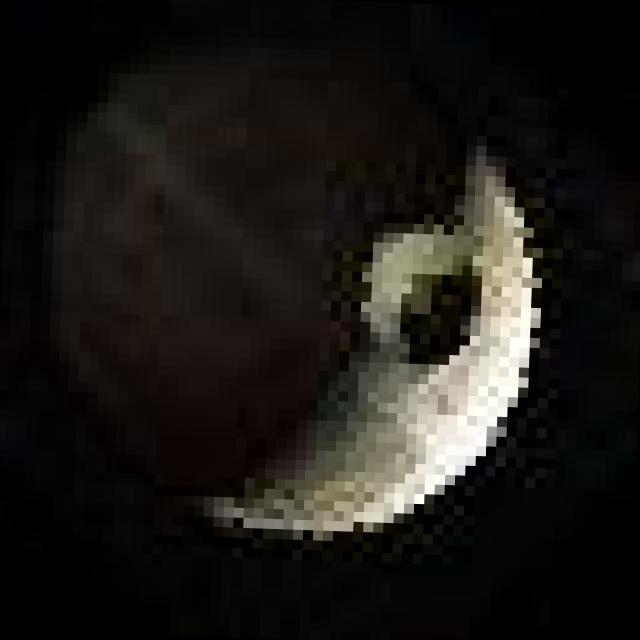Death Star: (28, 34, 566, 547)
